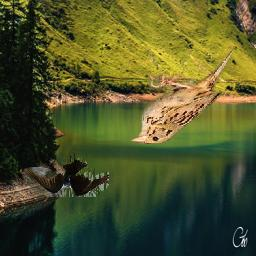Crow: (25, 153, 110, 198)
Sparrow: (129, 48, 233, 144)
